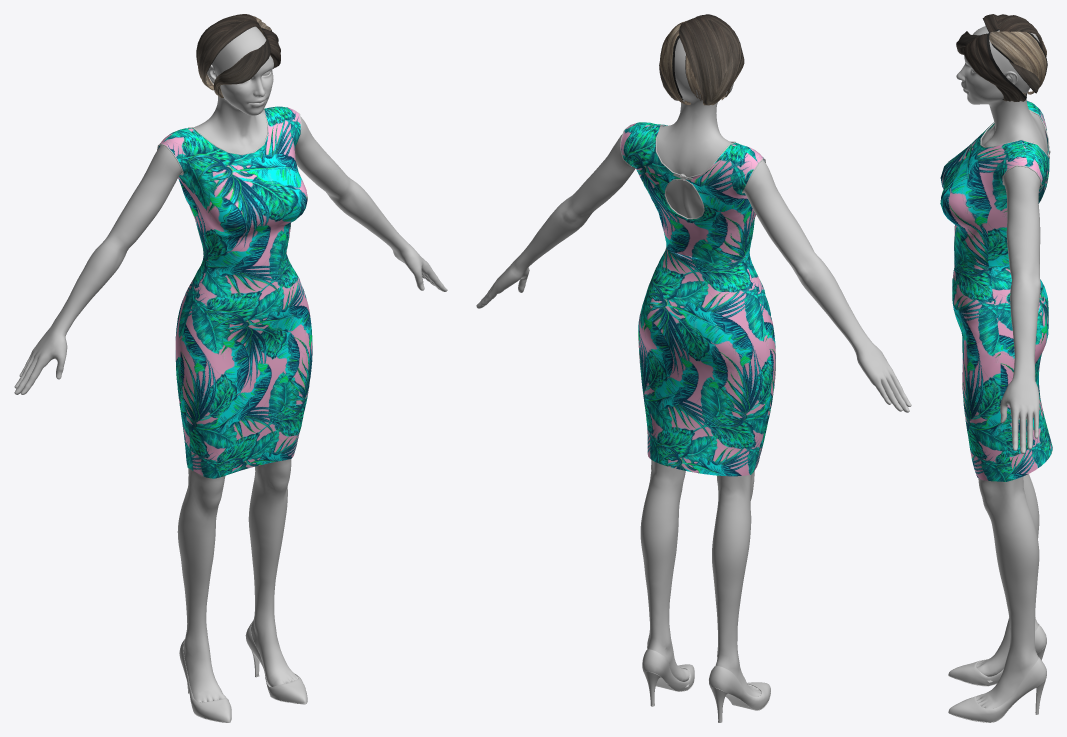
The picture shows the model from 3 angles, left to right: view 1: azimuth 30°, elevation 25°; view 2: azimuth 150°, elevation 25°; view 3: azimuth 270°, elevation 25°; orthographic projection.
Parts seen in each view (by area): view 1: 16, bodyShape_skin_Shape, hair_Shape, shoes_l_Shape, shoes_r_Shape; view 2: 16, bodyShape_skin_Shape, hair_Shape, shoes_r_Shape, shoes_l_Shape; view 3: 16, bodyShape_skin_Shape, hair_Shape, shoes_l_Shape, shoes_r_Shape.
Boxes of the visible parts, bbox=[...] form: 16: bbox=[157, 106, 312, 478]; bodyShape_skin_Shape: bbox=[14, 26, 447, 702]; hair_Shape: bbox=[196, 14, 280, 98]; shoes_l_Shape: bbox=[245, 621, 307, 704]; shoes_r_Shape: bbox=[179, 639, 231, 722]; 16: bbox=[619, 122, 775, 476]; bodyShape_skin_Shape: bbox=[476, 38, 911, 696]; hair_Shape: bbox=[659, 14, 744, 105]; shoes_r_Shape: bbox=[709, 666, 770, 722]; shoes_l_Shape: bbox=[642, 649, 694, 706]; 16: bbox=[940, 100, 1052, 481]; bodyShape_skin_Shape: bbox=[956, 26, 1047, 708]; hair_Shape: bbox=[956, 14, 1047, 101]; shoes_l_Shape: bbox=[948, 657, 1046, 722]; shoes_r_Shape: bbox=[948, 623, 1046, 686].
Bounding box in the file's own units: 1249 × 1881 × 281.
